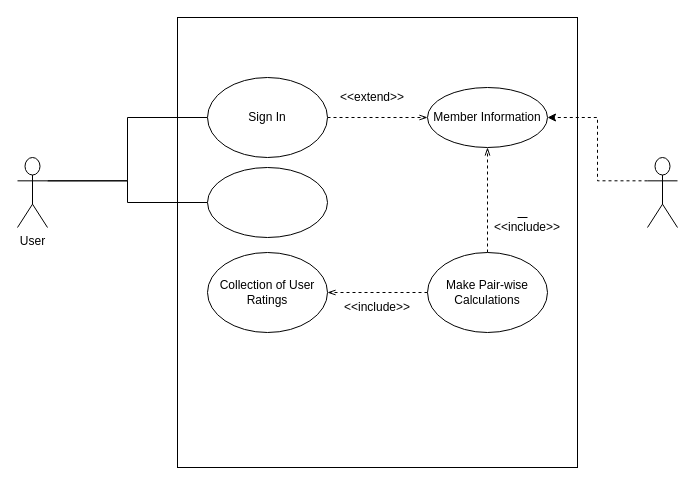
This 700x485 diagram has some shape labels left out. The shapes that lost their labels are listed below. From the top down, each one's centre as x and y in pixels, then its label:
the point at 267,202: Request Suggestions
the point at 662,192: System
